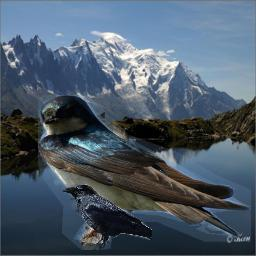Crow: (61, 184, 152, 244)
Swallow: (38, 95, 251, 250)
